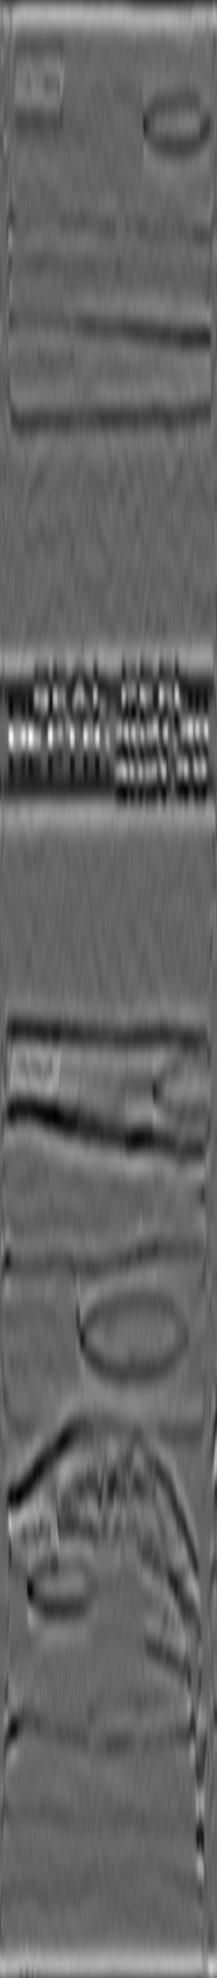hplug: (23, 1548, 100, 1622), (148, 1050, 217, 1125), (138, 83, 214, 151)
scal: (69, 1287, 192, 1385)
vplug: (95, 1538, 145, 1735), (72, 1042, 135, 1132)
